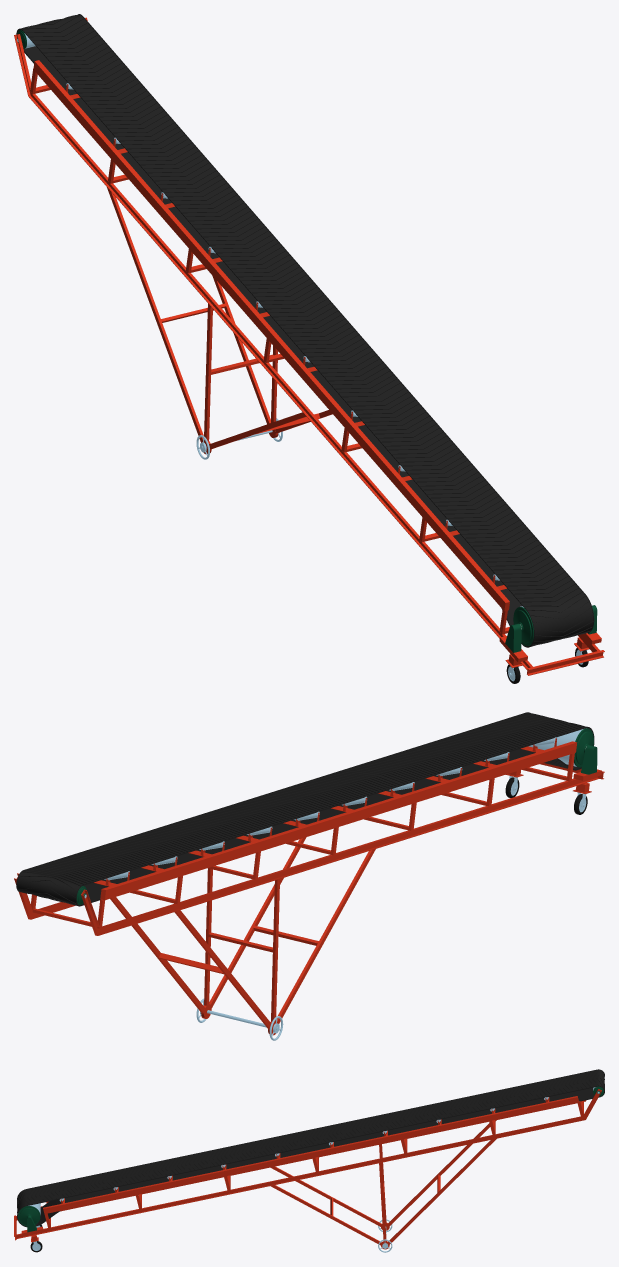
File: Conveyor+Belt.FBX
3 renders of one model, top to bottom at view 1: azimuth 30°, elevation 25°; view 2: azimuth 150°, elevation 25°; view 3: azimuth 270°, elevation 25°, orthographic. The views are drawn at different scales.
Parts seen in each view (by area): view 1: Conveyor Belt06-0002, Conveyor Belt06-0007, Conveyor Belt06-0020, Conveyor Belt06-0003, Conveyor Belt06-0014; view 2: Conveyor Belt06-0002, Conveyor Belt06-0003, Conveyor Belt06-0007, Conveyor Belt06-0020, Conveyor Belt06-0014, Conveyor Belt06-0001, Conveyor Belt06-0005, Conveyor Belt06-0023, Conveyor Belt06-0011; view 3: Conveyor Belt06-0002, Conveyor Belt06-0007, Conveyor Belt06-0023, Conveyor Belt06-0003, Conveyor Belt06-0020, Conveyor Belt06-0014, Conveyor Belt06-0012.
Part boxes in pixels (x1,y1,x2,y2): Conveyor Belt06-0002: (16, 14, 594, 647); Conveyor Belt06-0007: (33, 60, 509, 611); Conveyor Belt06-0020: (14, 34, 532, 669); Conveyor Belt06-0003: (107, 187, 332, 449); Conveyor Belt06-0014: (30, 68, 509, 634); Conveyor Belt06-0002: (16, 712, 594, 906); Conveyor Belt06-0003: (110, 837, 375, 1029); Conveyor Belt06-0007: (100, 741, 577, 900); Conveyor Belt06-0020: (81, 776, 599, 935); Conveyor Belt06-0014: (30, 753, 574, 928); Conveyor Belt06-0001: (104, 737, 557, 880); Conveyor Belt06-0005: (93, 744, 543, 886); Conveyor Belt06-0023: (14, 873, 74, 919); Conveyor Belt06-0011: (574, 728, 593, 767); Conveyor Belt06-0002: (17, 1069, 604, 1227); Conveyor Belt06-0007: (43, 1096, 578, 1214); Conveyor Belt06-0023: (15, 1089, 601, 1238); Conveyor Belt06-0003: (270, 1120, 496, 1245); Conveyor Belt06-0020: (15, 1100, 586, 1220); Conveyor Belt06-0014: (44, 1100, 583, 1228); Conveyor Belt06-0012: (18, 1206, 40, 1226).
Bounding box in the file's own units: 914 × 3043 × 9896.
